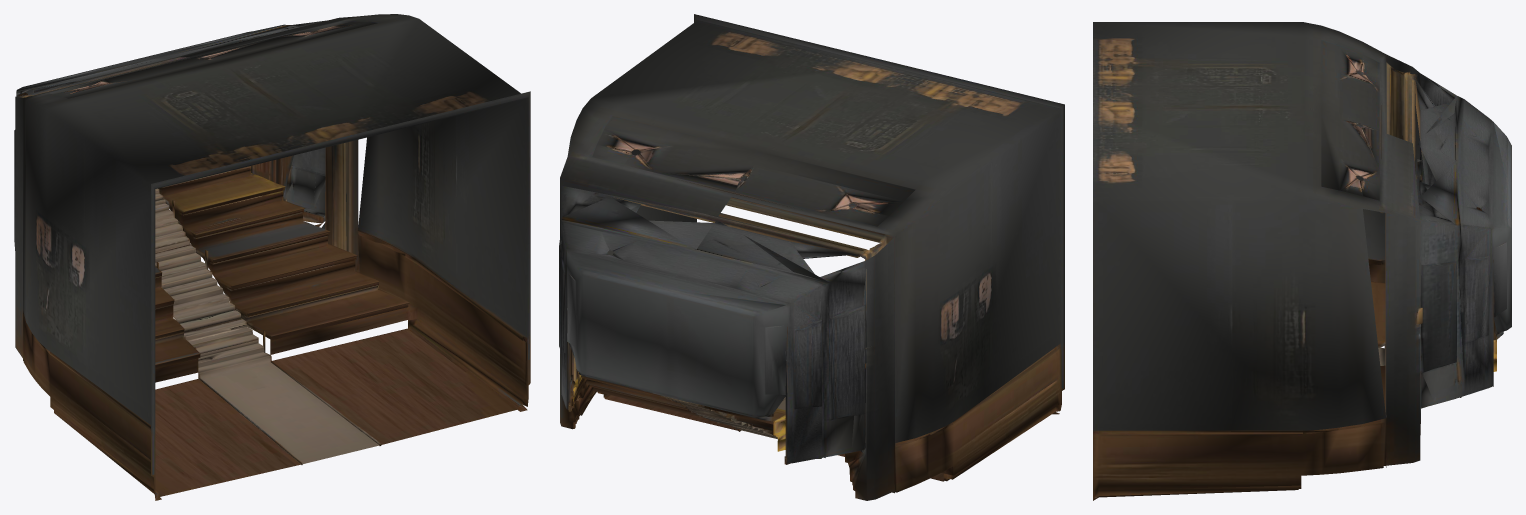
The model's file is brooklyn-table-shell.glb.
The picture shows the model from 3 angles, left to right: view 1: azimuth 30°, elevation 25°; view 2: azimuth 150°, elevation 25°; view 3: azimuth 270°, elevation 25°; orthographic projection. The views are drawn at different scales.
Parts seen in each view (by area): view 1: Brooklyn Table Shell; view 2: Brooklyn Table Shell; view 3: Brooklyn Table Shell.
Part boxes in pixels (x1=…): Brooklyn Table Shell: x1=14, y1=14, x2=530, y2=500; Brooklyn Table Shell: x1=559, y1=14, x2=1064, y2=500; Brooklyn Table Shell: x1=1093, y1=22, x2=1511, y2=500.
Size of the model in its own units: 0.998 by 0.7988 by 0.9824.
1 material, 1 textured.
